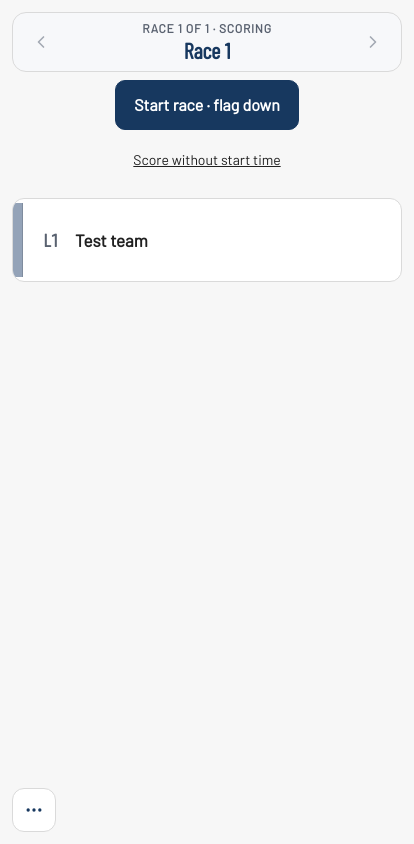
it: unlocks offline after saving the start and stays unlocked after reload
Expected: the button with aria-label "Test team, lane" is disabled, [13,199,401,281]
Step 1. Click the button "Start race · flag down" → [207, 105], box [115,80,299,130]
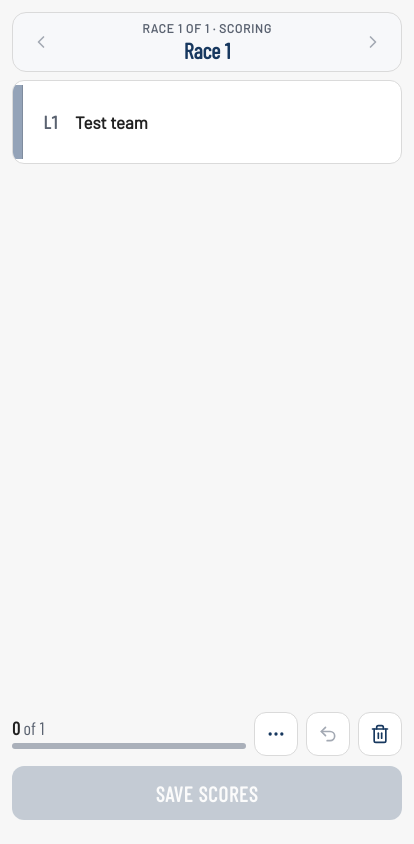
Now the button with aria-label "Test team, lane" is enabled, box [13,81,401,163]
